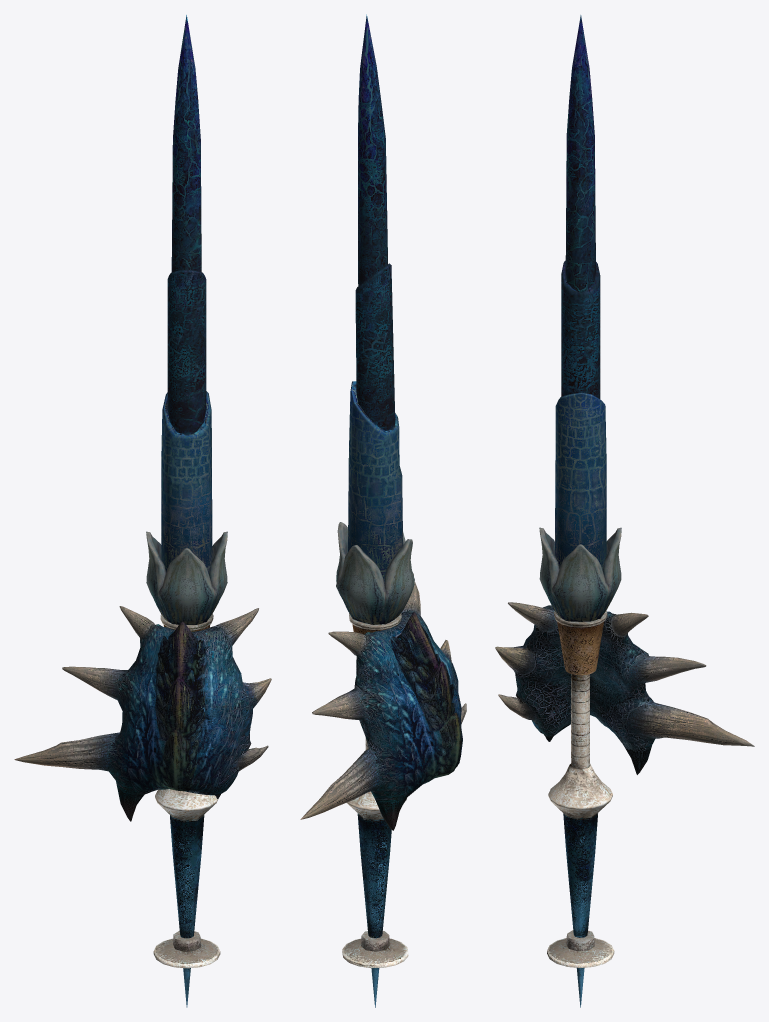
File: lan008.obj
3 renders of one model, left to right at view 1: azimuth 90°, elevation 25°; view 2: azimuth 150°, elevation 25°; view 3: azimuth 270°, elevation 25°, orthographic.
Parts seen in each view (by area): view 1: lan008_000_LOD_1; view 2: lan008_000_LOD_1; view 3: lan008_000_LOD_1.
Boxes of the visible parts, <box> form: lan008_000_LOD_1: <box>14,15,271,1007</box>; lan008_000_LOD_1: <box>300,14,466,1007</box>; lan008_000_LOD_1: <box>495,15,754,1007</box>.
Bounding box in the file's own units: 54.34 × 411 × 96.81.
